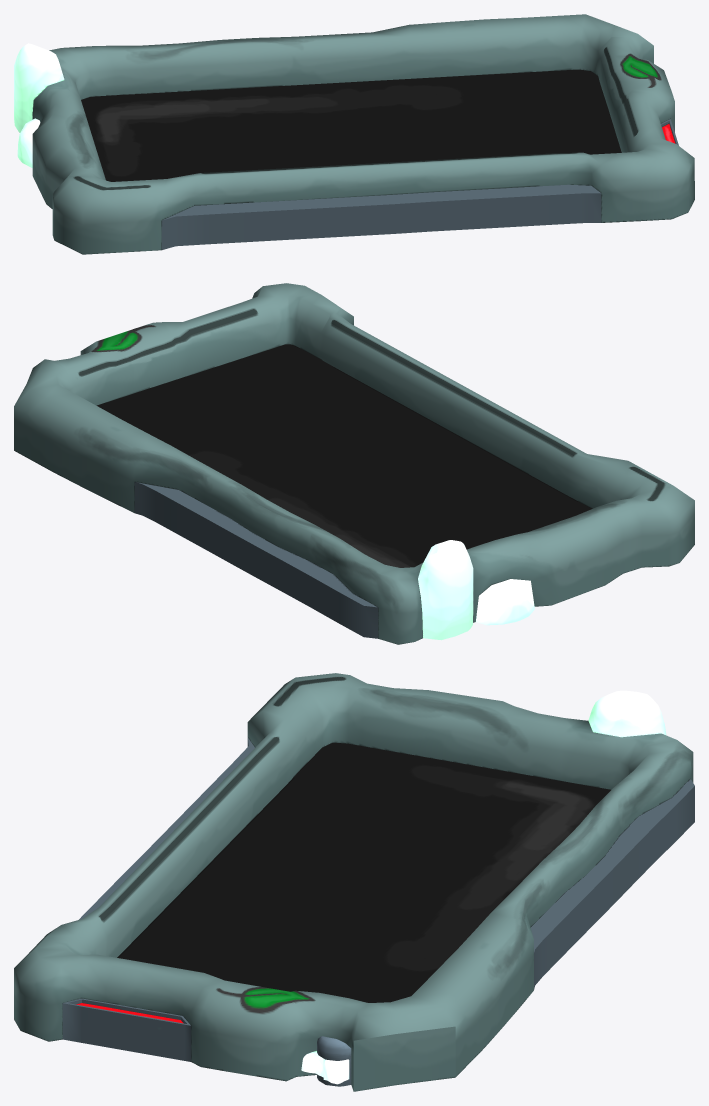
File: Tablet.fbx
3 views of the same model, one above another, from view 1: azimuth 30°, elevation 25°; view 2: azimuth 150°, elevation 25°; view 3: azimuth 270°, elevation 25° (orthographic). The views are drawn at different scales.
Visible parts, largest first — view 1: Box005; view 2: Box005; view 3: Box005.
Boxes of the visible parts, box(x1,y1,x2,y2) form: Box005: box(14, 14, 694, 254); Box005: box(14, 283, 694, 644); Box005: box(14, 673, 694, 1091).
Size of the model in its own units: 407 by 50.23 by 323.
